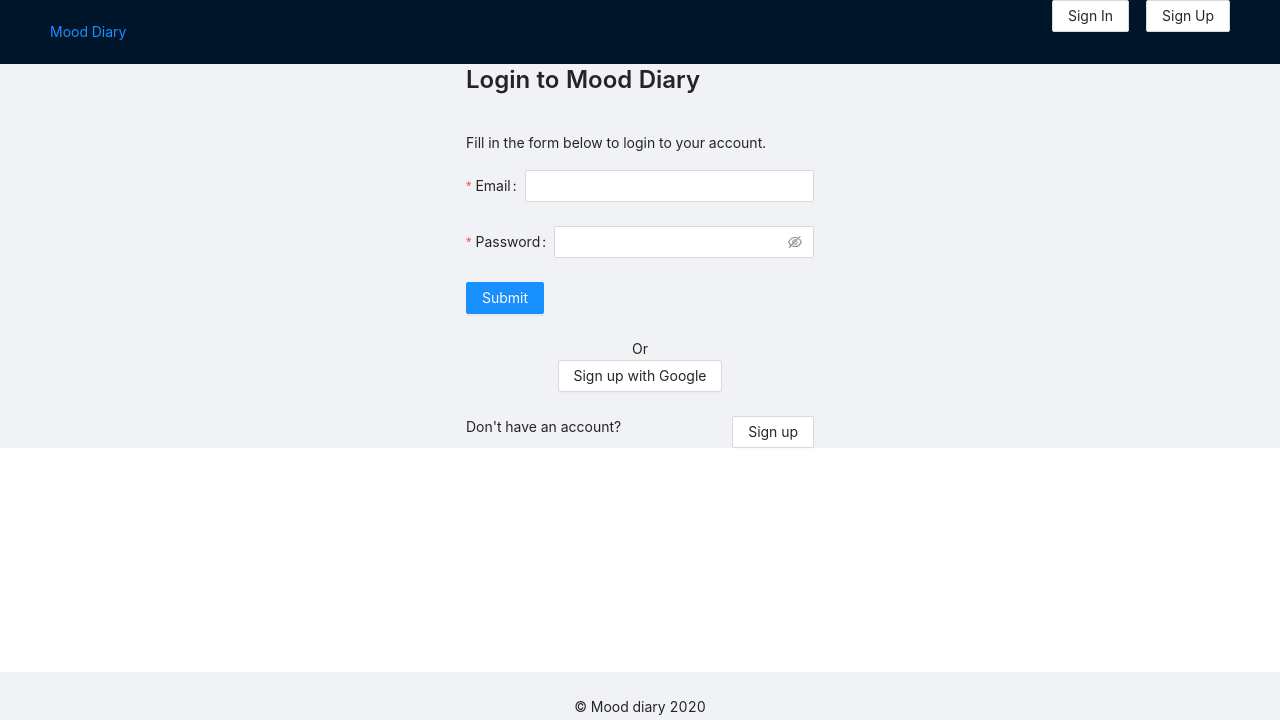
Scenario: submit empty form
Step 1. Click the button "Submit" → {"x": 505, "y": 298}, box [466, 282, 544, 314]
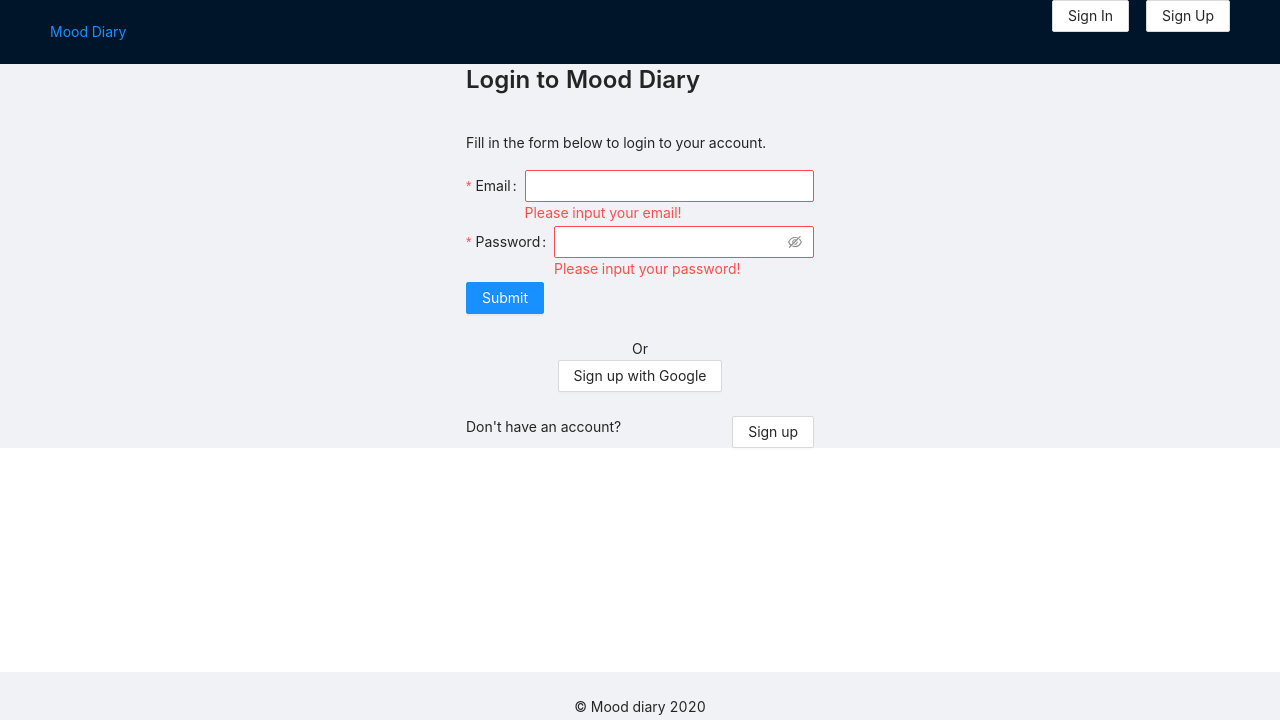
Expected: the text "Please input your email!" is shown, [524, 204, 682, 221]
Expected: the text "Please input your password!" is shown, [554, 260, 740, 277]
